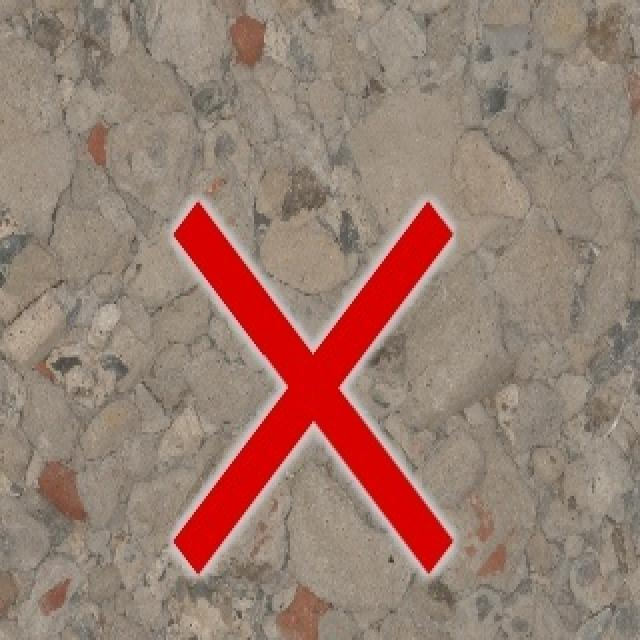x_marker: (173, 201, 451, 572)
